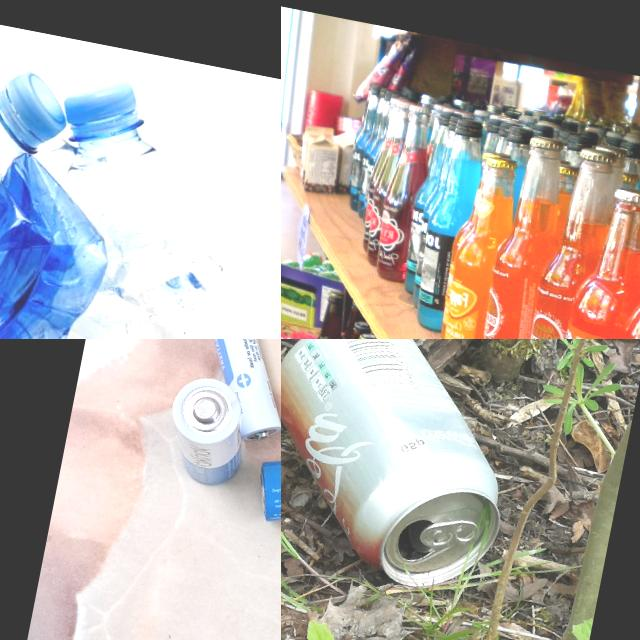aba de lata: (421, 513, 483, 557)
bateria: (167, 339, 281, 449), (158, 372, 257, 491)
garrafa de vidro: (465, 129, 581, 339), (511, 143, 623, 339), (408, 115, 493, 335), (433, 152, 532, 339), (541, 181, 640, 339), (372, 103, 441, 285), (299, 286, 353, 339)
garrafa plástica: (21, 131, 257, 339), (0, 124, 125, 339)
lata: (281, 339, 536, 601)
tampa plástica: (0, 66, 73, 145), (59, 70, 142, 138)
